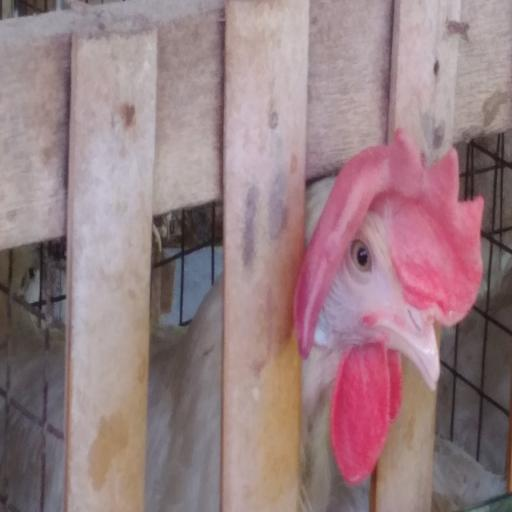healthy: (331, 176, 445, 338)
